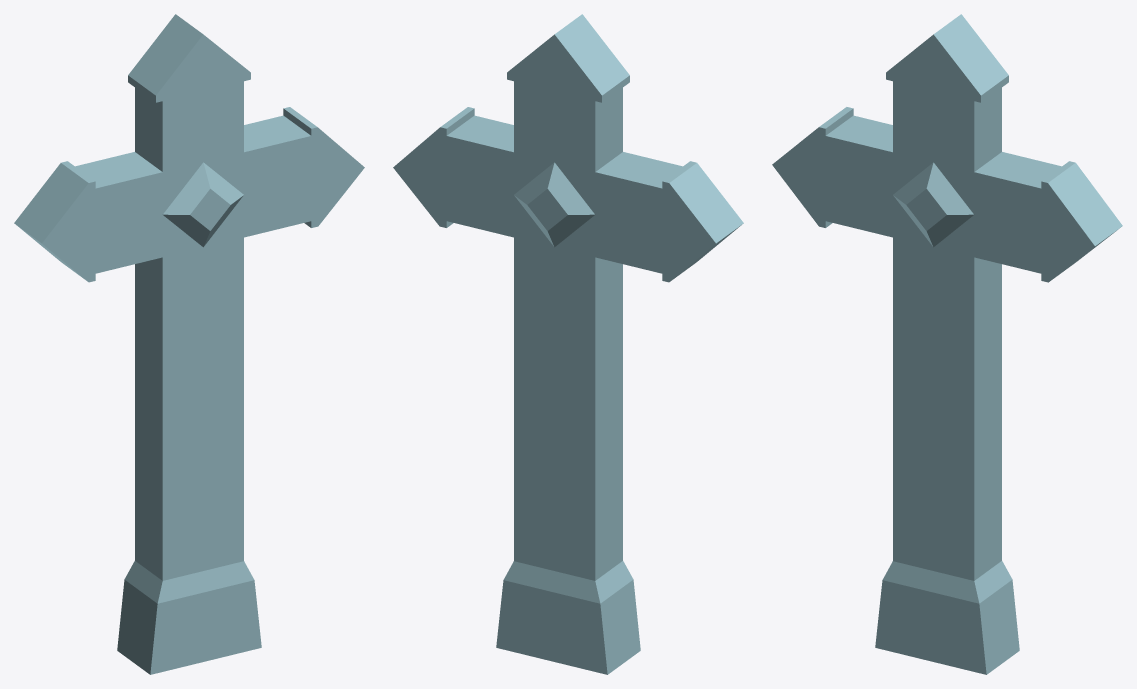
The model's file is cross.fbx.
3 renders of one model, left to right at view 1: azimuth 30°, elevation 25°; view 2: azimuth 150°, elevation 25°; view 3: azimuth 330°, elevation 25°, orthographic.
Visible parts, largest first — view 1: cross; view 2: cross; view 3: cross.
Part boxes in pixels (x1,y1,x2,y2): cross: [14, 14, 364, 674]; cross: [393, 14, 743, 674]; cross: [772, 14, 1122, 674].
Bounding box in the file's own units: 5.36 × 9.9 × 1.2.
